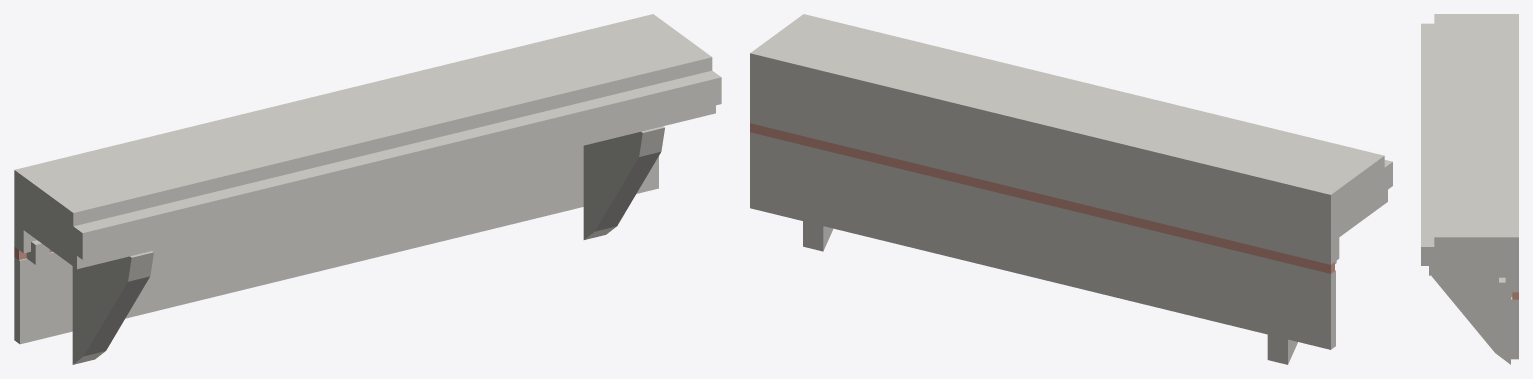
Rendered from cornice_a.glb.
3 renders of one model, left to right at view 1: azimuth 30°, elevation 25°; view 2: azimuth 150°, elevation 25°; view 3: azimuth 270°, elevation 25°, orthographic. The views are drawn at different scales.
Parts seen in each view (by area): view 1: cornice_a_trim; view 2: cornice_a_trim, cornice_a_acc_a; view 3: cornice_a_trim.
Part boxes in pixels (x1,y1,x2,y2): cornice_a_trim: [14, 14, 721, 364]; cornice_a_trim: [750, 14, 1392, 364]; cornice_a_acc_a: [750, 123, 1334, 273]; cornice_a_trim: [1421, 14, 1518, 364].
Size of the model in its own units: 2 by 0.61 by 0.37.
